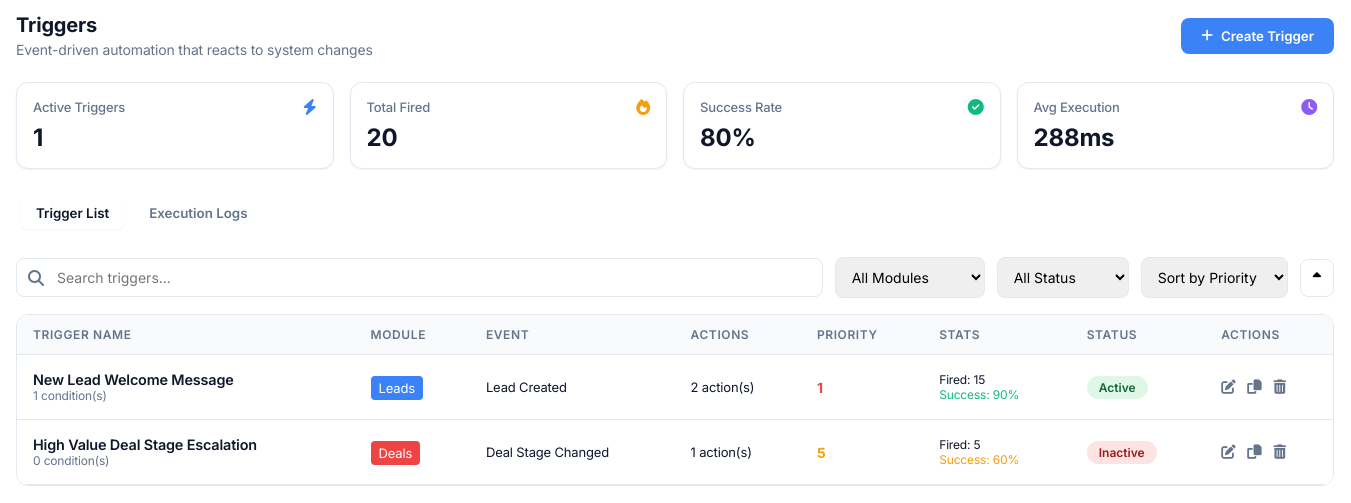
TriggersSettingsPage with DataTable › switches to Execution Logs tab and renders logs DataTable with 6 columns
This screenshot has width=1351, height=503.
Click the button "Execution Logs".
click(198, 213)  # box 133,197 -> 264,229
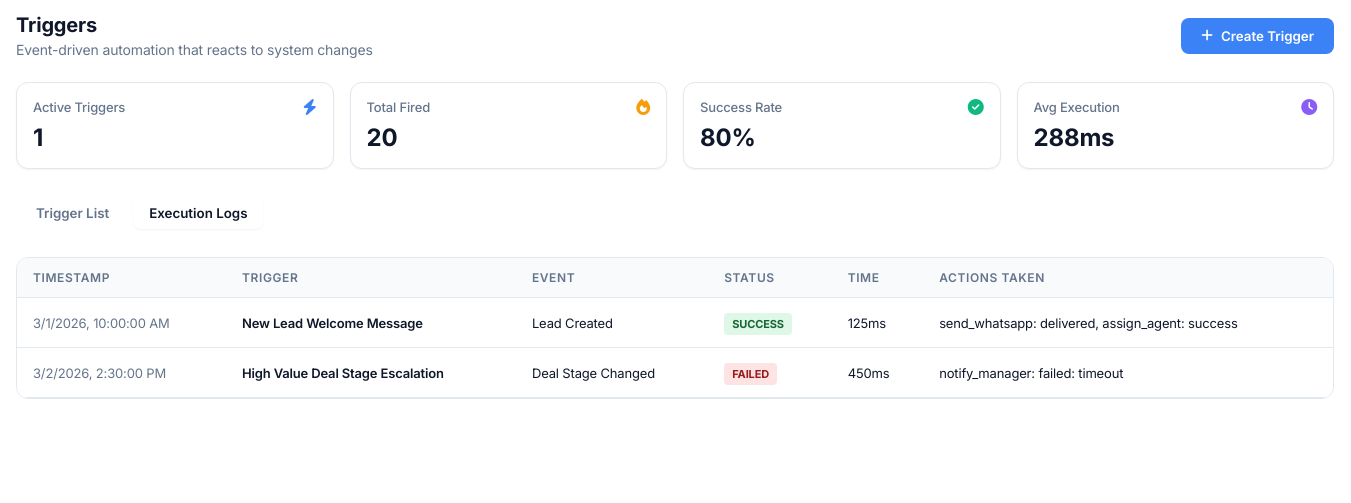
Check: the column heading "Timestamp" is shown, box 17,258 -> 226,298
Check: the column heading "Time" is shown, box 832,258 -> 923,298
Check: the column heading "Actions taken" is shown, box 923,258 -> 1333,298
